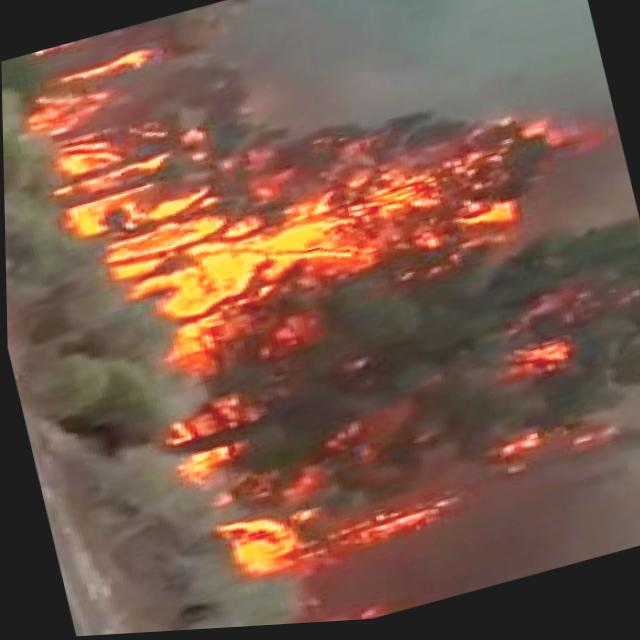fire: (110, 105, 548, 341), (211, 484, 411, 602), (55, 34, 168, 184)
